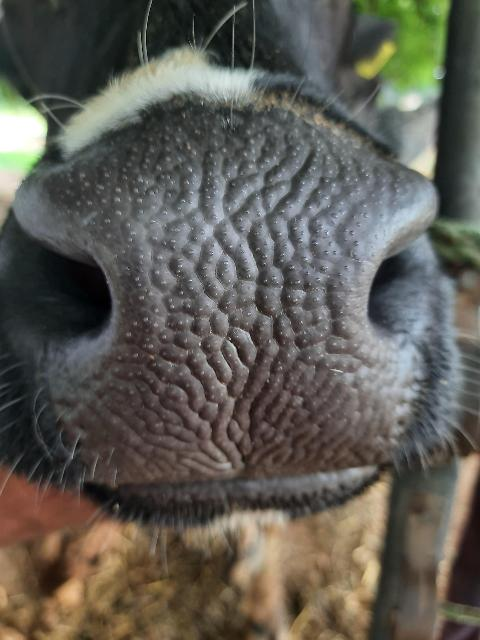Muzzle: (42, 129, 400, 469)
